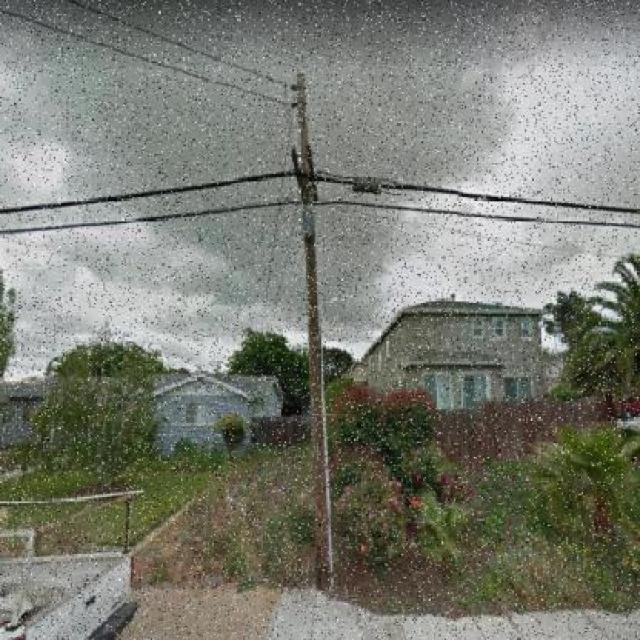pole: (216, 24, 362, 607)
